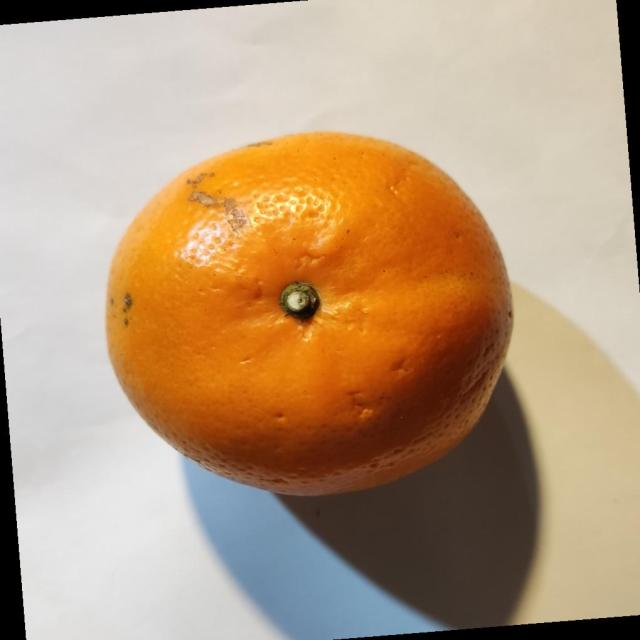fresh orange: (104, 129, 515, 498)
